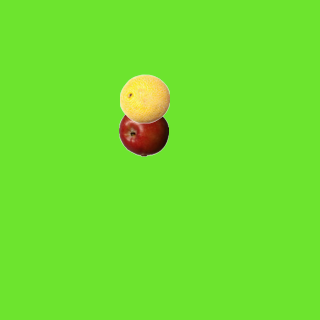Apple Braeburn: (118, 106, 168, 156)
Cantaloupe 1: (119, 73, 169, 123)
